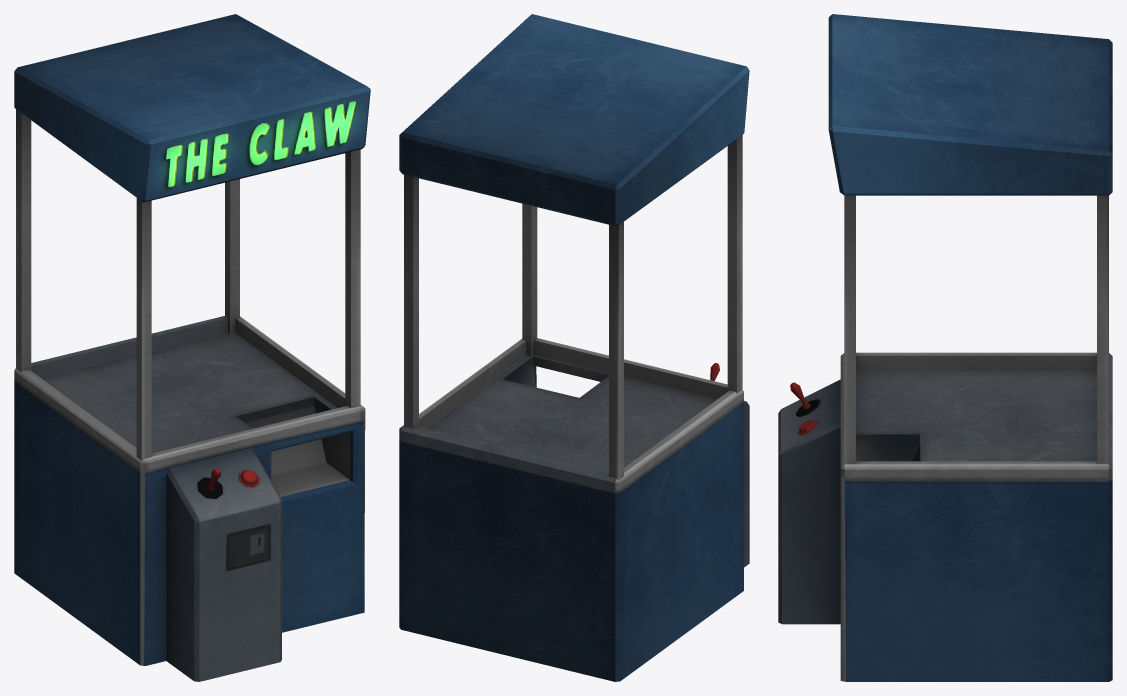
The model's file is claw_machine_transparent.glb.
3 views of the same model, side by side, from view 1: azimuth 30°, elevation 25°; view 2: azimuth 150°, elevation 25°; view 3: azimuth 270°, elevation 25° (orthographic). The views are drawn at different scales.
Parts seen in each view (by area): view 1: polySurface65_solidShader2_0; view 2: polySurface65_solidShader2_0; view 3: polySurface65_solidShader2_0.
Part boxes in pixels (<box>): polySurface65_solidShader2_0: <box>14,14,370,681</box>; polySurface65_solidShader2_0: <box>399,14,749,681</box>; polySurface65_solidShader2_0: <box>778,14,1112,681</box>.
Size of the model in its own units: 1.86 by 4.19 by 2.29.
Materials: 1 (1 with a texture image).
